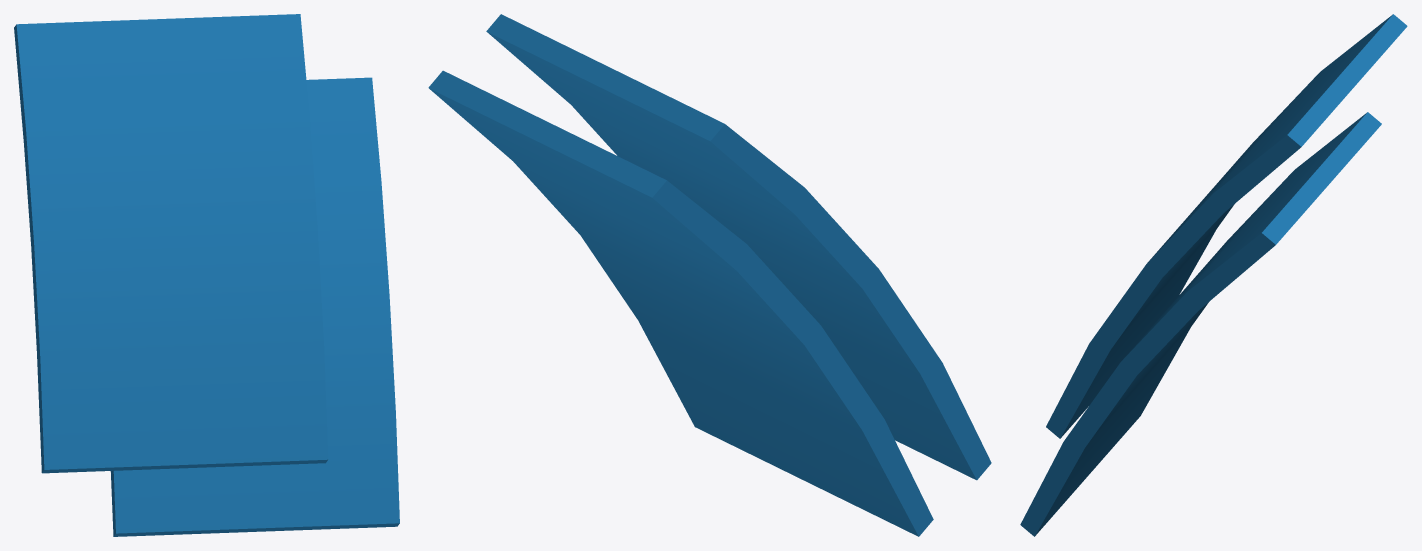
File: plastic.fbx
The picture shows the model from 3 angles, left to right: view 1: azimuth 30°, elevation 25°; view 2: azimuth 150°, elevation 25°; view 3: azimuth 270°, elevation 25°; orthographic projection. The views are drawn at different scales.
Visible parts, largest first — view 1: plastic; view 2: plastic; view 3: plastic.
Boxes of the visible parts, x1=… form: plastic: x1=14, y1=14, x2=399, y2=536; plastic: x1=428, y1=14, x2=991, y2=536; plastic: x1=1020, y1=14, x2=1407, y2=536.
Bounding box in the file's own units: 0.7218 × 0.751 × 0.6227.
